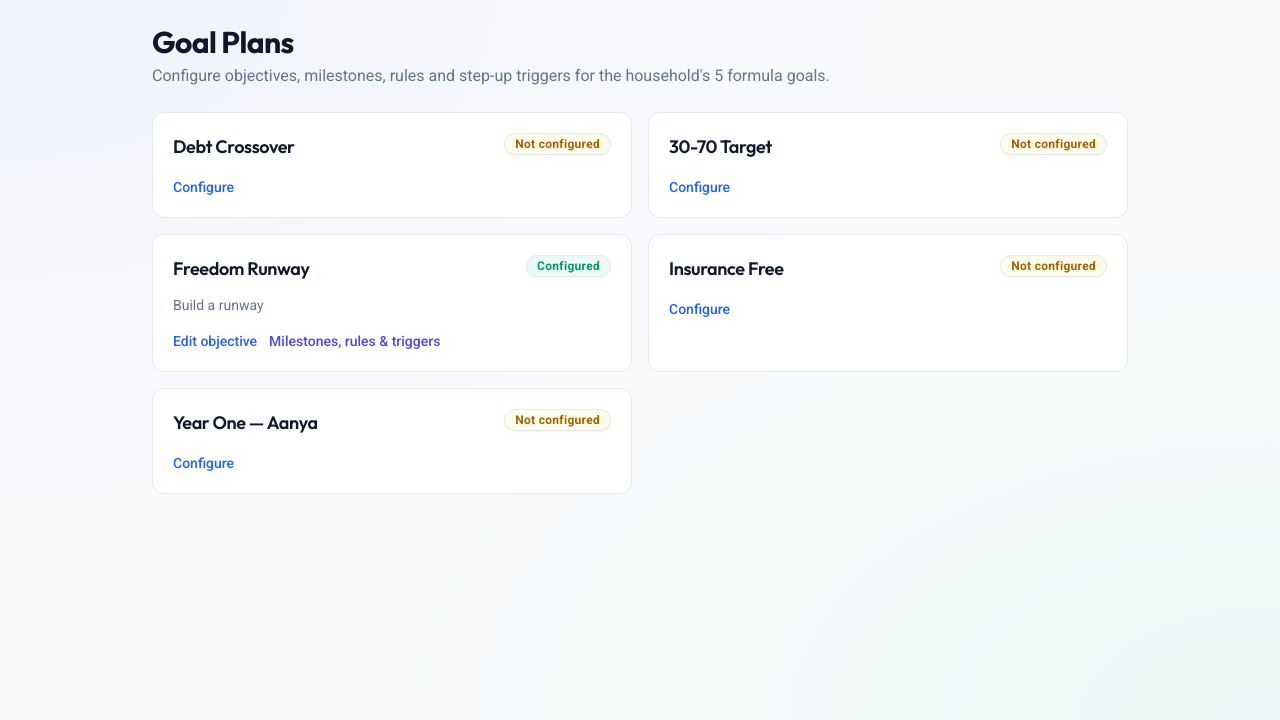
Test: GoalPlans page › shows an error banner when deactivating a goal plan fails
Expected: the heading "Freedom Runway" is shown, left=173, top=255, right=310, bottom=283
Step 1. Click the button "Edit objective" → (215, 341), box left=173, top=331, right=257, bottom=351
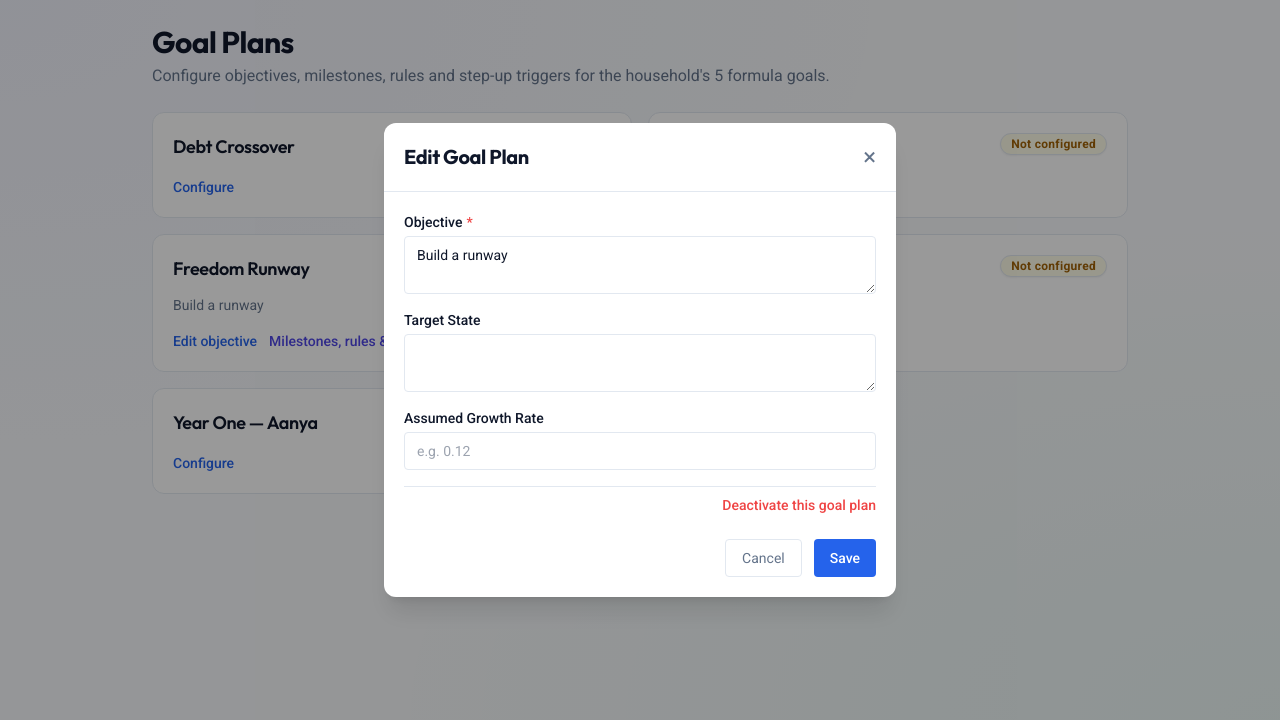
Step 2. Click the button "Deactivate this goal plan" → (799, 505), box left=722, top=495, right=876, bottom=515
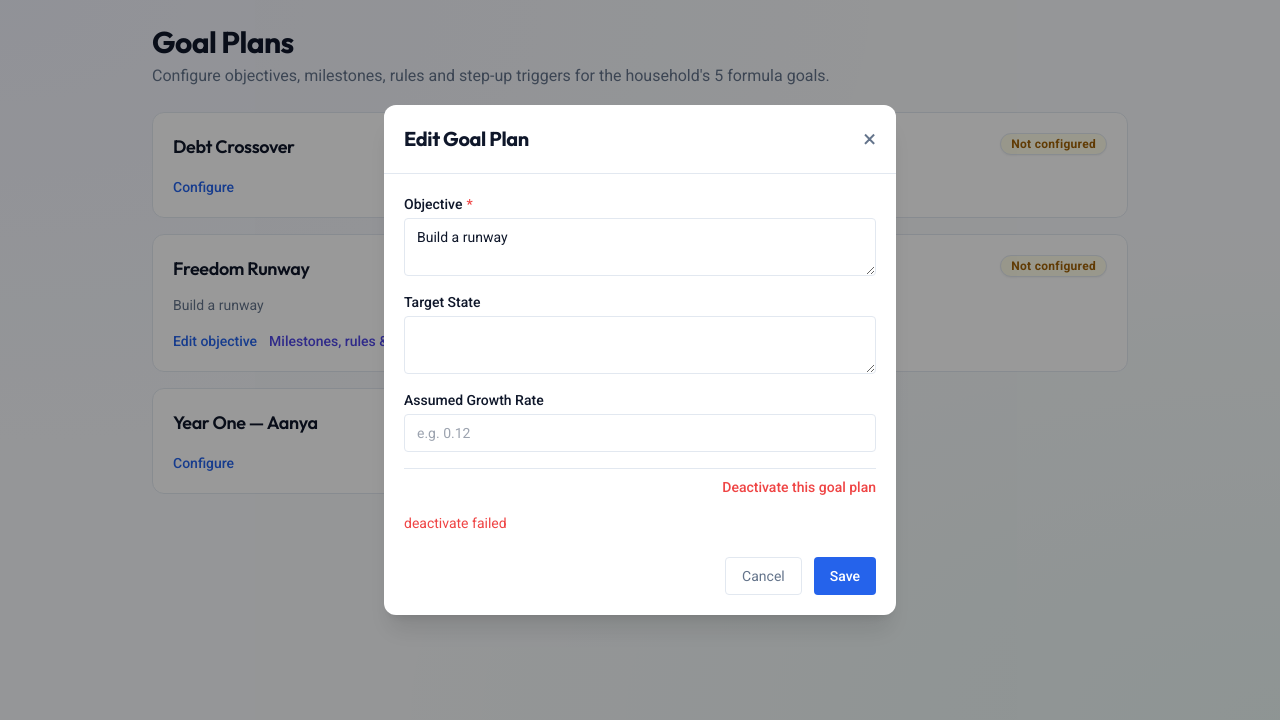
Now the text "deactivate failed" is shown, box left=404, top=515, right=507, bottom=531
